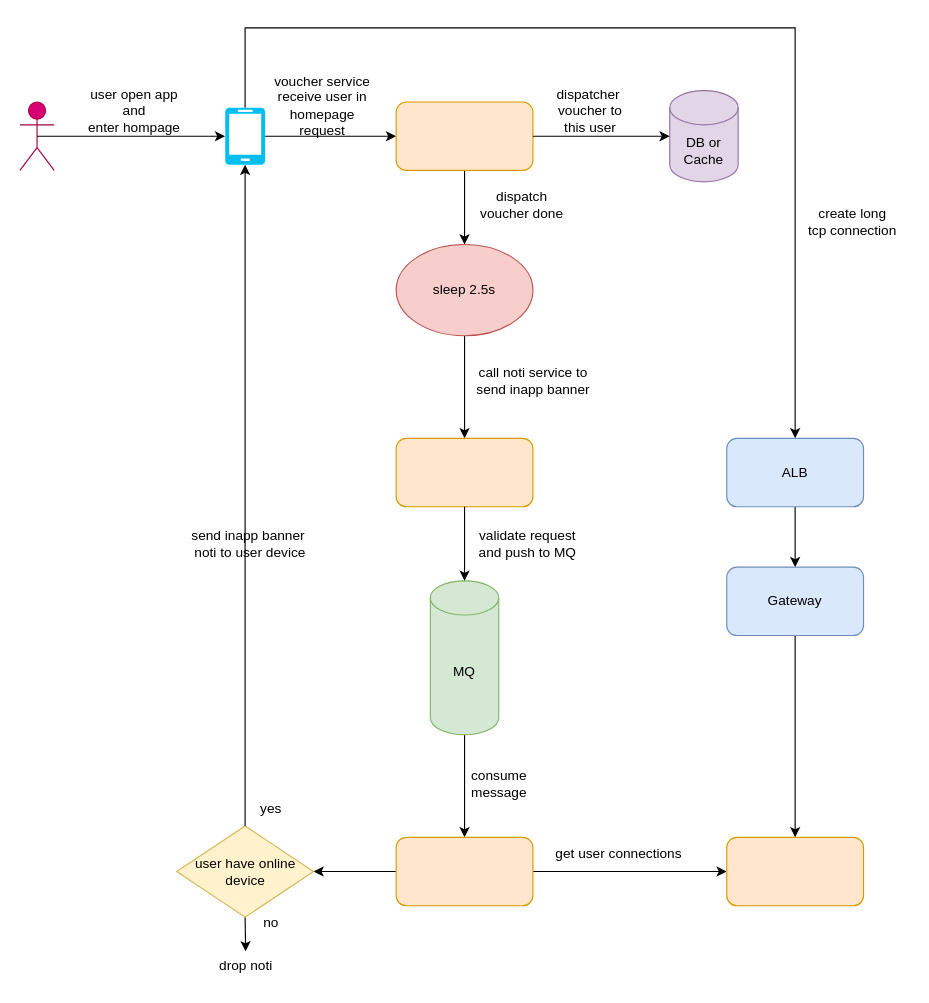
This 929x1003 diagram has some shape labels left out. The shapes that lost their labels are listed below. From the top down, each one's centre as x and y in pixels, then its label:
[464,135]: voucher service
[464,472]: noti service
[464,871]: noti consumer
[795,871]: mall.clisession service
